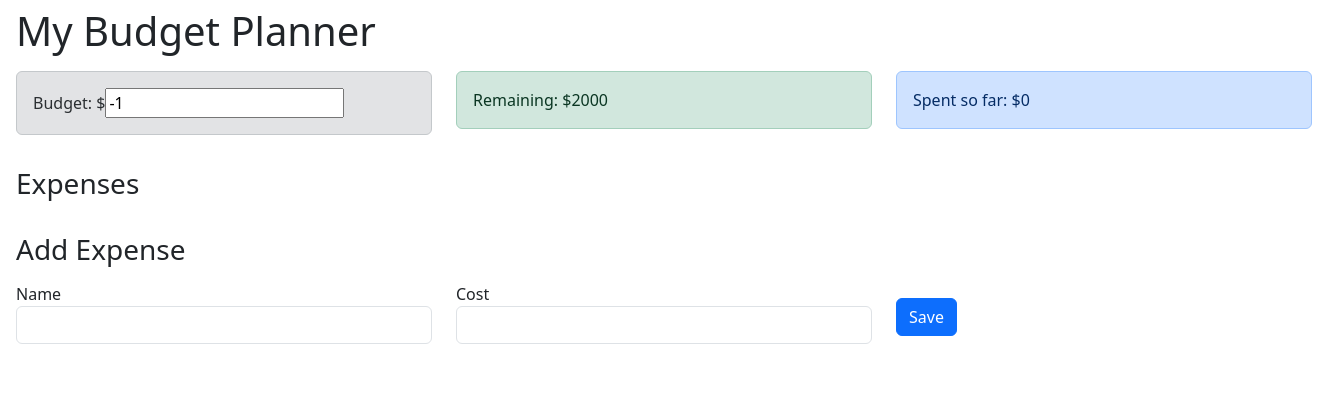
it: create expense works
The width and height of the screenshot is (1329, 409).
Type "Food" into the field with test id "name-input" at (224, 325), box [16,306,432,344]
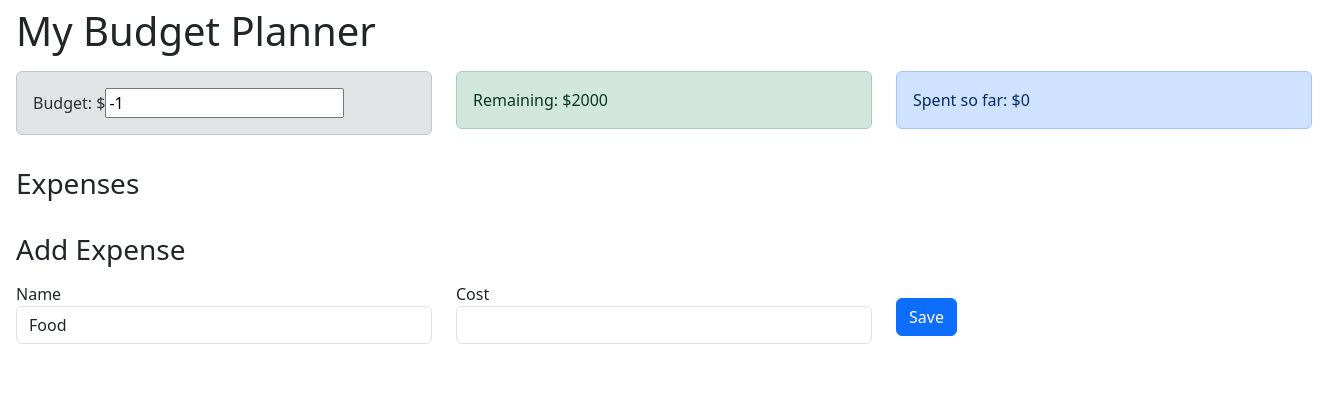
Type "300" into the field with test id "cost-input" at (664, 325), box [456,306,872,344]
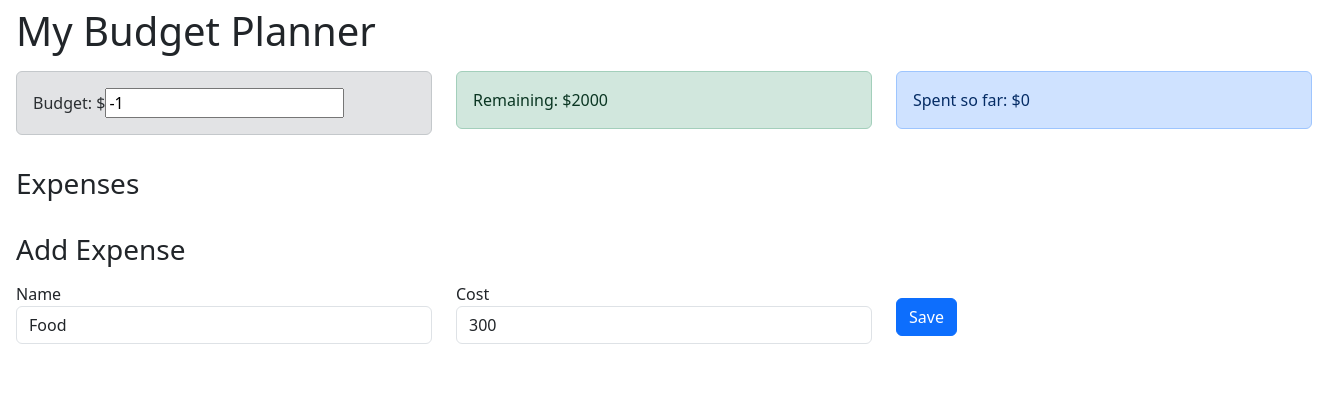
Click the button with test id "save-button" at (926, 317), box [896,298,957,336]
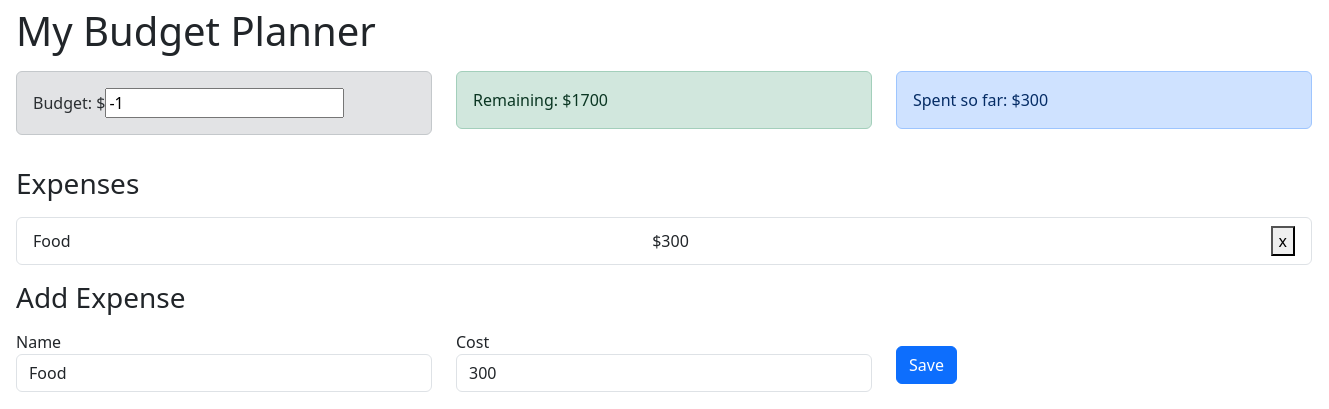
expect the text "Food" is shown: met, box [33,229,70,253]
expect the text "$300" is shown: met, box [652,229,689,253]
expect the text "Remaining: $1700" is shown: met, box [473,89,608,111]
